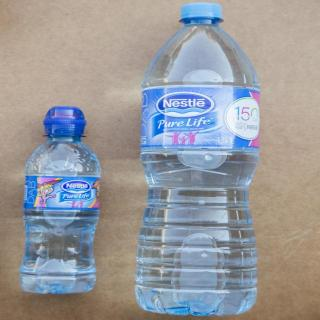Anorganik: (139, 3, 262, 320), (20, 103, 106, 300)
